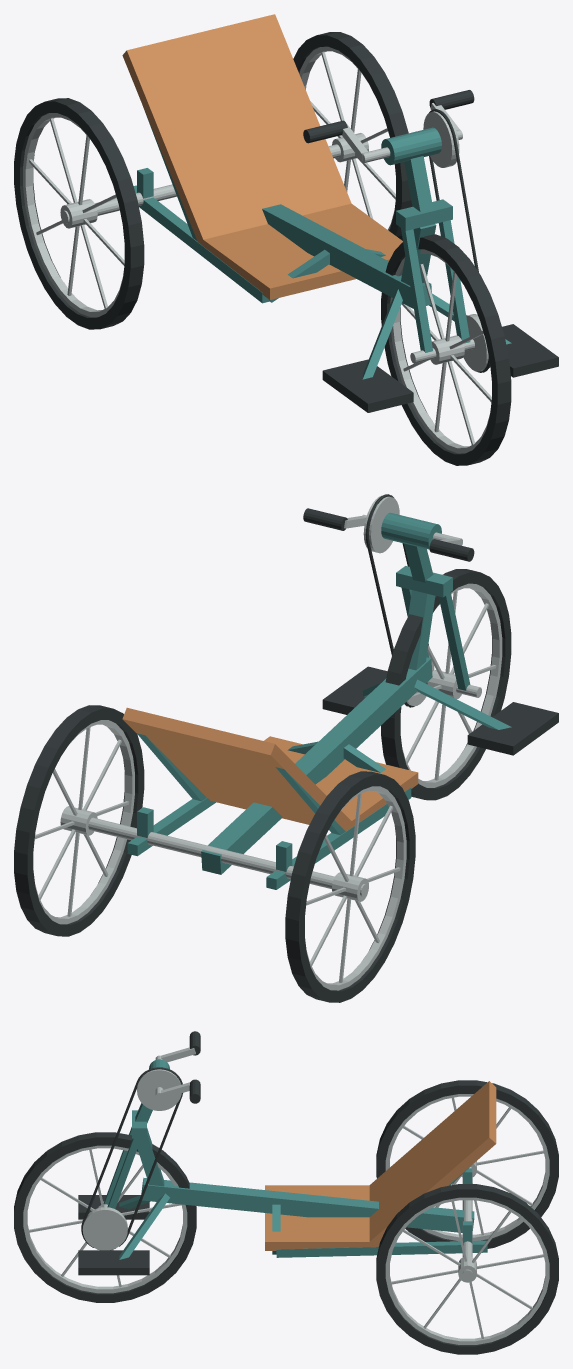
3 views of the same model, one above another, from view 1: azimuth 30°, elevation 25°; view 2: azimuth 150°, elevation 25°; view 3: azimuth 270°, elevation 25° (orthographic). The views are drawn at different scales.
Parts seen in each view (by area): view 1: WholeContinuousReclinedSeatAndBackShell, WholeGroundFootTire_RearL, WholeGroundFootTire_Front, WholeLongLowCentralChassis, WholeGroundFootTire_RearR, WholeFixedForwardFootRest_0, WholeSpokeRim_RearL, WholeLowSeatSideRail_0, WholeSpokeRim_Front, WholeFixedForwardFootRest_1, WholeFrontForkCheek_0, WholeHandCrankBearing (+14 smaller); view 2: WholeContinuousReclinedSeatAndBackShell, WholeGroundFootTire_RearL, WholeGroundFootTire_RearR, WholeLongLowCentralChassis, WholeGroundFootTire_Front, WholeRearThroughAxle, WholeFixedForwardFootRest_0, WholeSpokeRim_RearL, WholeSpokeRim_RearR, WholeSpokeRim_Front, WholeFixedForwardFootRest_1, WholeHandCrankBearing (+14 smaller); view 3: WholeContinuousReclinedSeatAndBackShell, WholeGroundFootTire_RearR, WholeLongLowCentralChassis, WholeGroundFootTire_Front, WholeGroundFootTire_RearL, WholeSpokeRim_RearR, WholeSpokeRim_Front, WholeLowSeatSideRail_1, WholeFixedForwardFootRest_1, WholeSpokeRim_RearL, WholeLowerFrontDriveDisc, WholeUpperHandDriveDisc (+6 smaller).
Part boxes in pixels (x1=…): WholeContinuousReclinedSeatAndBackShell: x1=122, y1=14, x2=402, y2=299; WholeGroundFootTire_RearL: x1=14, y1=98, x2=144, y2=329; WholeGroundFootTire_Front: x1=381, y1=234, x2=511, y2=465; WholeLongLowCentralChassis: x1=262, y1=204, x2=431, y2=308; WholeGroundFootTire_RearR: x1=293, y1=32, x2=412, y2=240; WholeFixedForwardFootRest_0: x1=322, y1=359, x2=413, y2=412; WholeSpokeRim_RearL: x1=23, y1=113, x2=122, y2=317; WholeLowSeatSideRail_0: x1=133, y1=185, x2=269, y2=303; WholeSpokeRim_Front: x1=390, y1=249, x2=490, y2=453; WholeFixedForwardFootRest_1: x1=502, y1=324, x2=558, y2=377; WholeFrontForkCheek_0: x1=401, y1=228, x2=432, y2=352; WholeHandCrankBearing: x1=381, y1=127, x2=441, y2=165; WholeContinuousReclinedSeatAndBackShell: x1=122, y1=707, x2=418, y2=831; WholeGroundFootTire_RearL: x1=285, y1=771, x2=415, y2=1002; WholeGroundFootTire_RearR: x1=14, y1=705, x2=144, y2=936; WholeLongLowCentralChassis: x1=201, y1=657, x2=432, y2=874; WholeGroundFootTire_Front: x1=381, y1=569, x2=511, y2=800; WholeRearThroughAxle: x1=88, y1=817, x2=367, y2=896; WholeFixedForwardFootRest_0: x1=467, y1=702, x2=558, y2=755; WholeSpokeRim_RearL: x1=306, y1=786, x2=406, y2=990; WholeSpokeRim_RearR: x1=35, y1=720, x2=134, y2=924; WholeSpokeRim_Front: x1=402, y1=583, x2=502, y2=787; WholeFixedForwardFootRest_1: x1=322, y1=666, x2=387, y2=714; WholeHandCrankBearing: x1=381, y1=512, x2=441, y2=549; WholeContinuousReclinedSeatAndBackShell: x1=265, y1=1081, x2=496, y2=1250; WholeGroundFootTire_RearR: x1=376, y1=1184, x2=558, y2=1354; WholeLongLowCentralChassis: x1=141, y1=1177, x2=474, y2=1232; WholeGroundFootTire_Front: x1=14, y1=1132, x2=196, y2=1302; WholeGroundFootTire_RearL: x1=376, y1=1080, x2=558, y2=1248; WholeSpokeRim_RearR: x1=385, y1=1197, x2=549, y2=1344; WholeSpokeRim_Front: x1=23, y1=1145, x2=187, y2=1293; WholeLowSeatSideRail_1: x1=276, y1=1240, x2=487, y2=1257; WholeFixedForwardFootRest_1: x1=78, y1=1250, x2=149, y2=1275; WholeSpokeRim_RearL: x1=385, y1=1094, x2=549, y2=1241; WholeLowerFrontDriveDisc: x1=82, y1=1207, x2=127, y2=1250; WholeUpperHandDriveDisc: x1=137, y1=1069, x2=181, y2=1110.
Bounding box in the file's own units: 0.95 × 0.9449 × 1.91.
